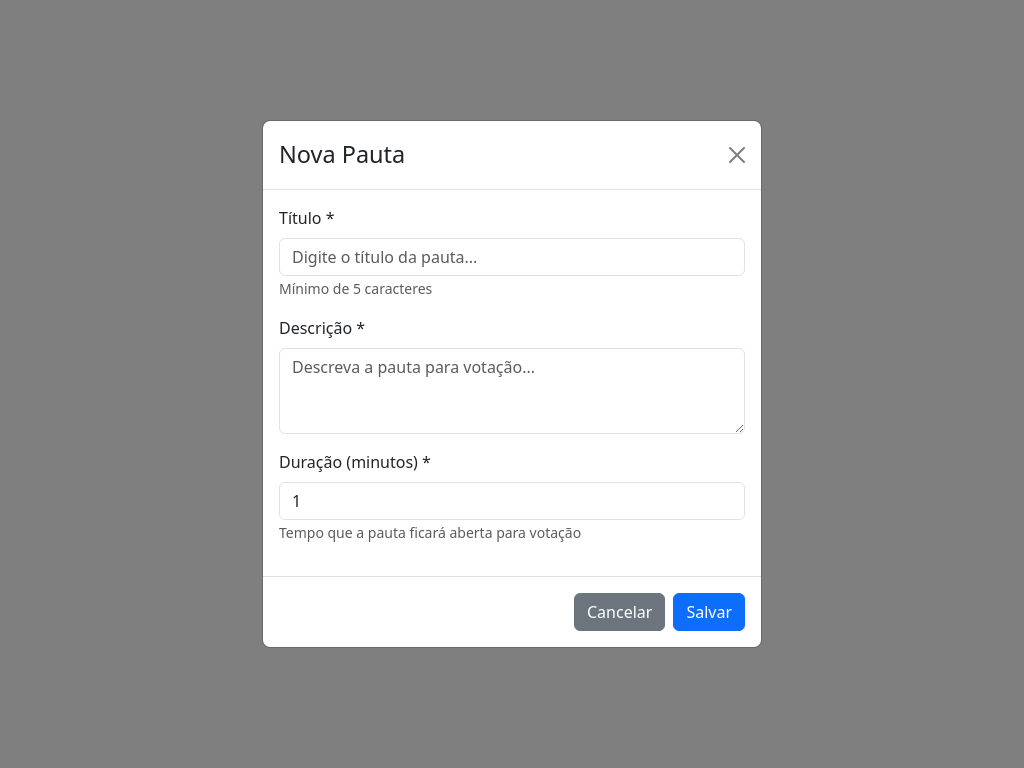
Scenario: PautaModalForm › deve desabilitar botão ao salvar
The image size is (1024, 768).
In the field with placeholder "Digite o título da pauta...": x=512, y=257 [279,238,745,276], type "Pauta Válida"
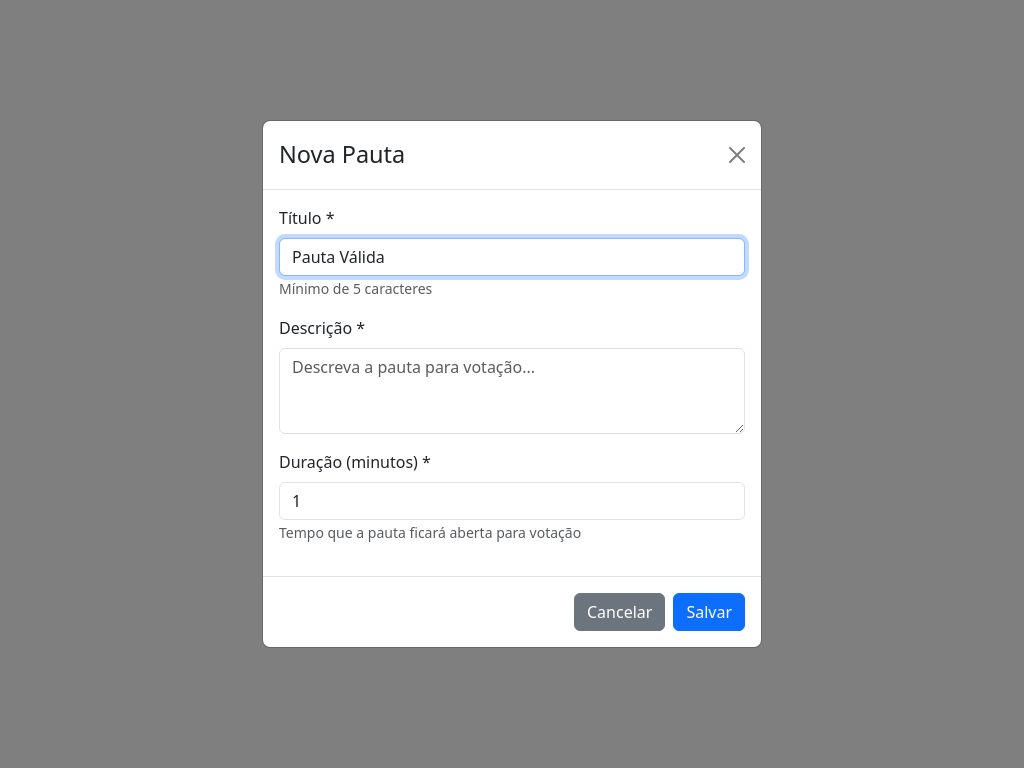
Replace the text in the number field with "5": x=512, y=501 [279,482,745,520]
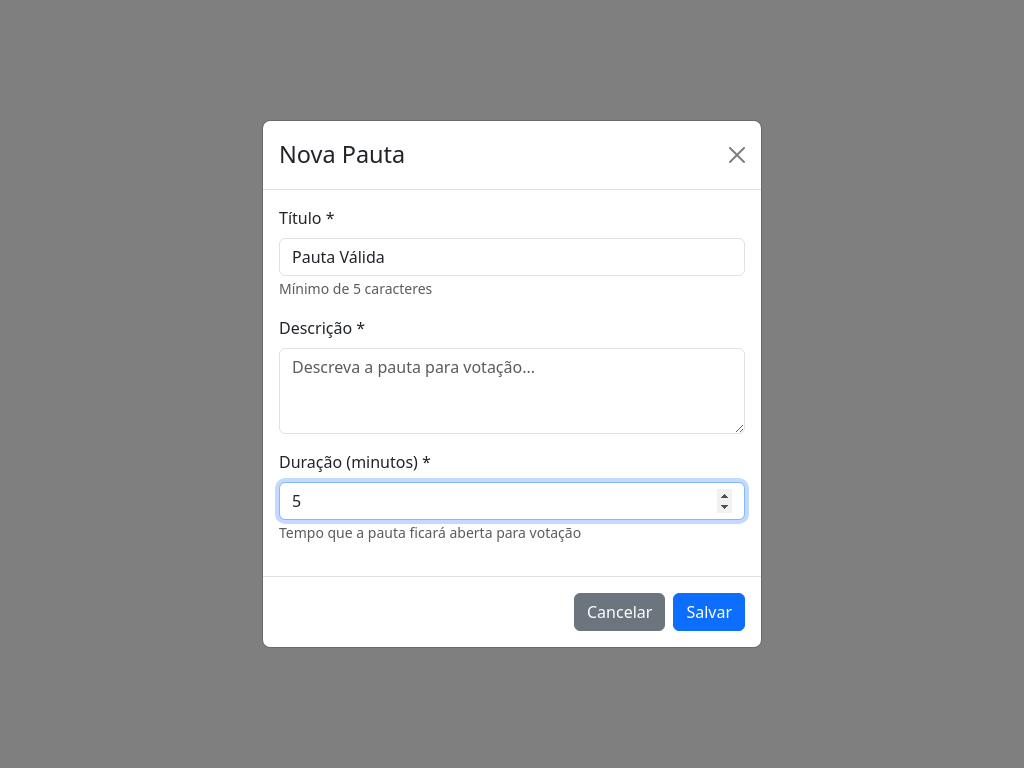
Click the button "Salvar": x=709, y=612 [673,593,745,631]
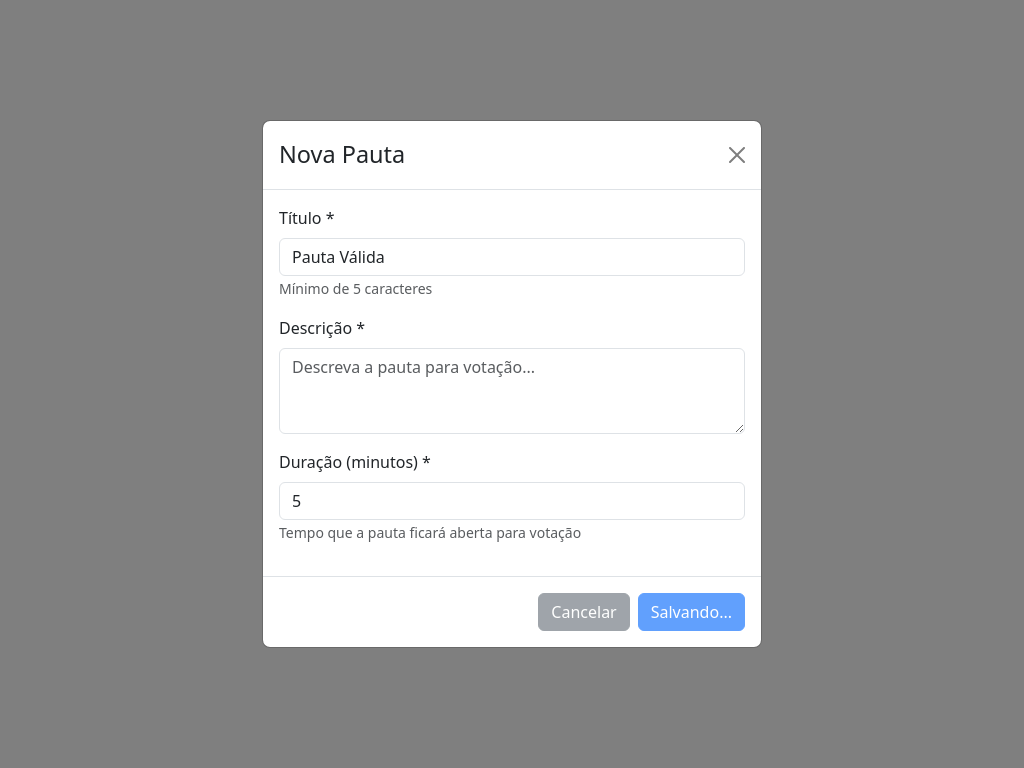
Result: the button named "Salvar" is disabled at [638,593,745,631]
